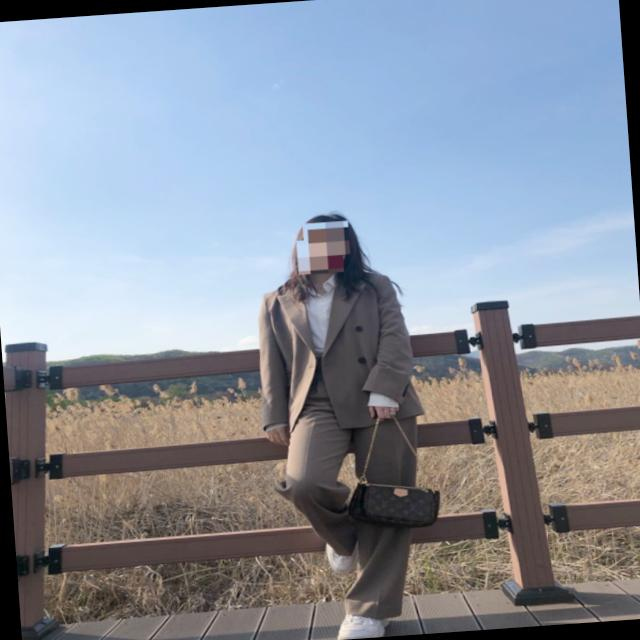blazer: (248, 254, 428, 435)
slacks: (268, 356, 433, 630)
